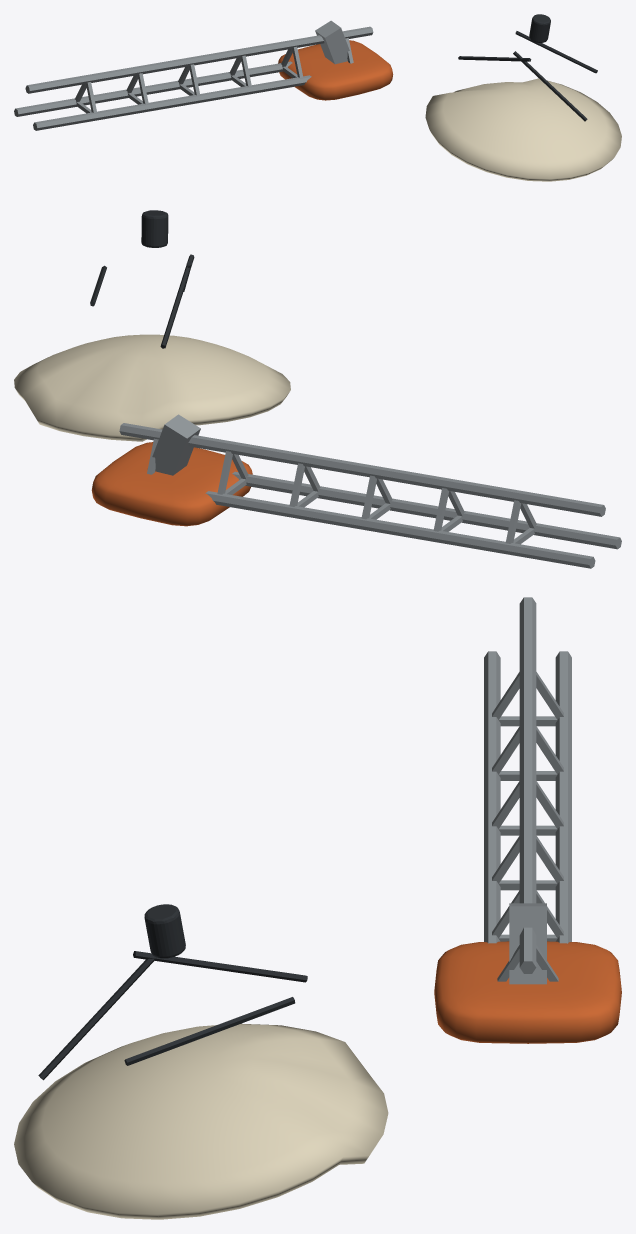
The model's file is prop_mast_down.glb.
3 views of the same model, one above another, from view 1: azimuth 30°, elevation 25°; view 2: azimuth 150°, elevation 25°; view 3: azimuth 270°, elevation 25° (orthographic). The views are drawn at different scales.
Visible parts, largest first — view 1: Dish_bowl, foot, f_leg0, f_leg1, f_leg2, stub, Dish_feed, Dish_strut2, Dish_strut0, Dish_strut1; view 2: Dish_bowl, foot, f_leg0, f_leg2, f_leg1, stub, Dish_feed, Dish_strut1; view 3: Dish_bowl, foot, f_leg0, f_leg1, f_leg2, stub, Dish_feed, Dish_strut0, Dish_strut1, Dish_strut2.
Part boxes in pixels (left/top/right/bottom): Dish_bowl: left=425, top=78, right=621, bottom=181; foot: left=278, top=40, right=393, bottom=100; f_leg0: left=25, top=26, right=373, bottom=93; f_leg1: left=33, top=75, right=311, bottom=130; f_leg2: left=14, top=61, right=292, bottom=116; stub: left=315, top=20, right=353, bottom=64; Dish_feed: left=529, top=14, right=550, bottom=42; Dish_strut2: left=513, top=51, right=587, bottom=121; Dish_strut0: left=515, top=31, right=597, bottom=73; Dish_strut1: left=458, top=56, right=531, bottom=61; Dish_bowl: left=14, top=334, right=290, bottom=441; foot: left=91, top=442, right=252, bottom=526; f_leg0: left=119, top=423, right=605, bottom=516; f_leg2: left=205, top=491, right=595, bottom=568; f_leg1: left=232, top=471, right=621, bottom=549; stub: left=152, top=414, right=200, bottom=475; Dish_feed: left=141, top=210, right=168, bottom=247; Dish_strut1: left=160, top=254, right=194, bottom=348; Dish_bowl: left=14, top=1023, right=388, bottom=1219; foot: left=434, top=941, right=621, bottom=1043; f_leg0: left=519, top=597, right=536, bottom=973; f_leg1: left=484, top=651, right=500, bottom=943; f_leg2: left=555, top=651, right=571, bottom=943; stub: left=509, top=903, right=546, bottom=984; Dish_feed: left=144, top=904, right=185, bottom=958; Dish_strut0: left=124, top=997, right=295, bottom=1065; Dish_strut1: left=133, top=951, right=307, bottom=982; Dish_strut2: left=38, top=956, right=156, bottom=1080.
Size of the model in its own units: 2.89 by 0.7477 by 1.62.
